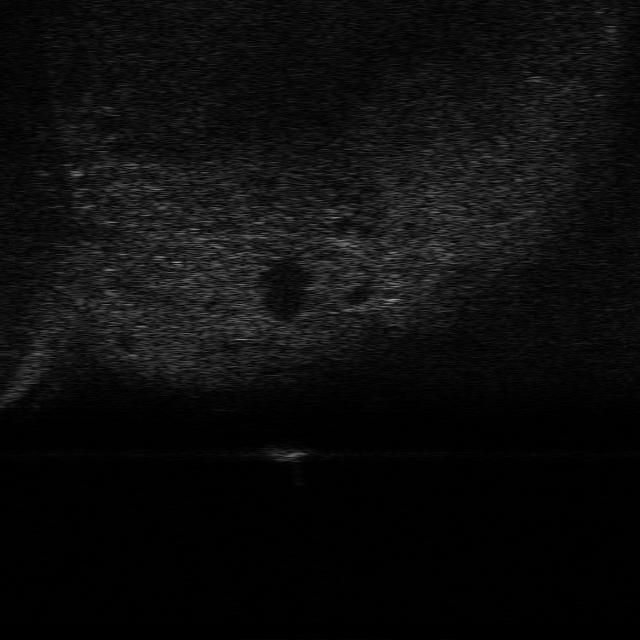cube: (260, 443, 312, 465)
